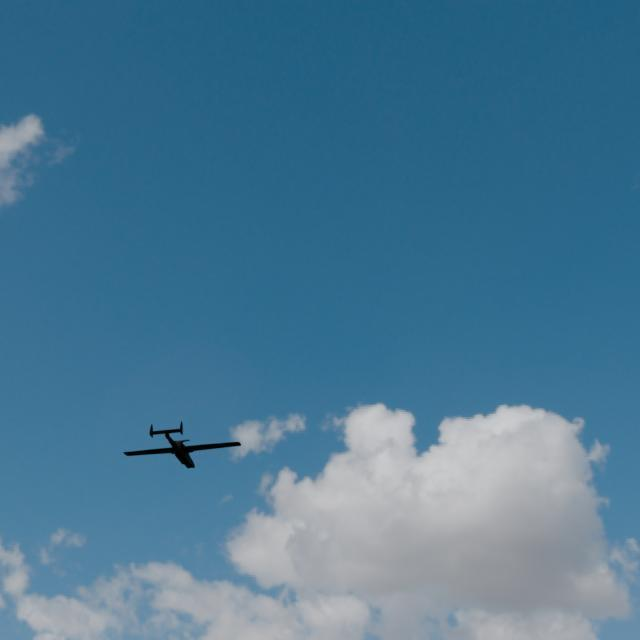Airaplan: (123, 421, 241, 468)
